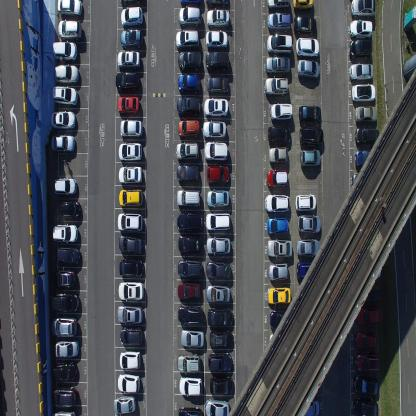car: (177, 304, 205, 327), (50, 292, 79, 314), (353, 374, 380, 396), (355, 306, 383, 327), (354, 148, 380, 170), (266, 33, 292, 55), (205, 283, 231, 305), (52, 40, 78, 62), (52, 85, 78, 107), (264, 55, 291, 76), (205, 235, 232, 256), (297, 212, 321, 235), (206, 163, 230, 186), (177, 94, 201, 117), (351, 172, 376, 194), (354, 126, 379, 148), (115, 71, 140, 93), (118, 234, 143, 256), (54, 64, 79, 86), (51, 109, 76, 131), (51, 267, 76, 289), (52, 386, 77, 408), (204, 50, 230, 71), (205, 211, 231, 232), (177, 258, 203, 279), (177, 234, 203, 255), (118, 280, 144, 301), (117, 304, 143, 325), (266, 238, 293, 258), (176, 212, 203, 232), (120, 27, 143, 50), (179, 375, 203, 397), (358, 282, 382, 304), (296, 36, 320, 58), (264, 76, 288, 98), (267, 12, 291, 34), (204, 96, 228, 118), (177, 352, 201, 374), (176, 163, 200, 185), (177, 73, 201, 95), (120, 6, 144, 28), (118, 164, 142, 186), (56, 245, 80, 267), (206, 260, 231, 281), (176, 187, 201, 208), (57, 19, 82, 40), (354, 352, 380, 372), (264, 193, 290, 213), (203, 141, 229, 161), (207, 307, 233, 327), (180, 328, 206, 348), (177, 280, 203, 300), (116, 212, 142, 232), (52, 223, 78, 243), (51, 316, 77, 336), (52, 362, 78, 382), (349, 38, 372, 60), (297, 58, 319, 81), (296, 259, 319, 281), (117, 94, 140, 116), (299, 126, 323, 147), (202, 119, 226, 140), (118, 141, 142, 162), (351, 83, 376, 103), (269, 308, 294, 328), (51, 134, 76, 154), (350, 0, 376, 19), (355, 331, 378, 352), (293, 14, 316, 35), (298, 104, 321, 125), (178, 7, 201, 28), (119, 326, 142, 347), (267, 125, 291, 145), (206, 76, 230, 96), (206, 188, 230, 208), (209, 329, 233, 349), (208, 350, 232, 370), (209, 376, 234, 395), (349, 62, 374, 81), (175, 29, 200, 48), (116, 50, 141, 69), (118, 188, 143, 207), (55, 339, 80, 358), (204, 397, 230, 415), (178, 118, 200, 139), (118, 372, 140, 393), (59, 199, 81, 220), (206, 8, 229, 28), (176, 140, 199, 160), (120, 118, 143, 138), (354, 105, 378, 124), (349, 19, 373, 38), (268, 333, 292, 352), (205, 30, 229, 49), (178, 51, 202, 70), (119, 258, 143, 277), (53, 177, 77, 196), (353, 397, 378, 415), (266, 286, 291, 304), (57, 0, 82, 18), (270, 102, 292, 122), (296, 238, 319, 257), (266, 216, 289, 235), (113, 395, 136, 414), (268, 146, 289, 166), (119, 350, 140, 370), (294, 192, 316, 211), (267, 262, 289, 281), (266, 169, 288, 188), (300, 148, 320, 167), (295, 400, 320, 415), (265, 0, 290, 11), (292, 0, 314, 12), (177, 405, 203, 415), (205, 0, 229, 8), (179, 0, 204, 7), (51, 408, 76, 415), (119, 0, 143, 7)
